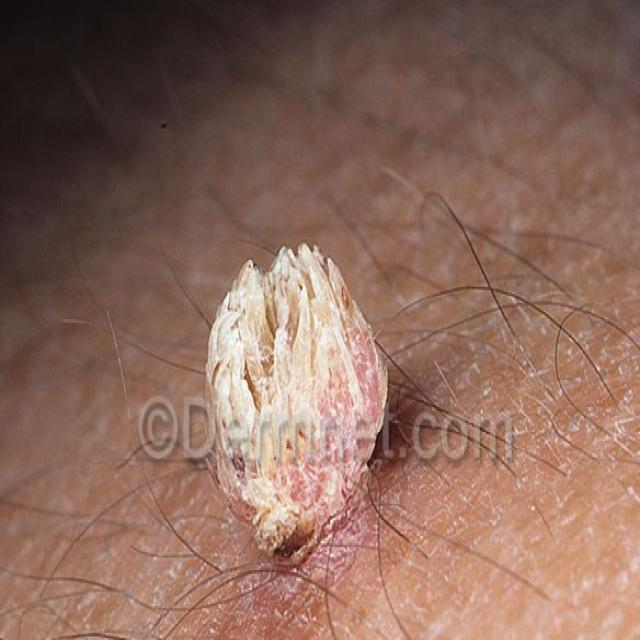Warts: (197, 202, 416, 571)
